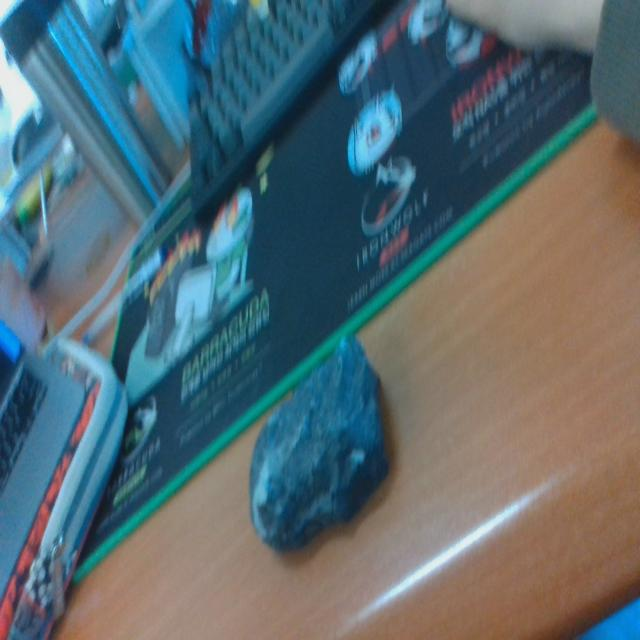stone: (248, 325, 392, 558)
